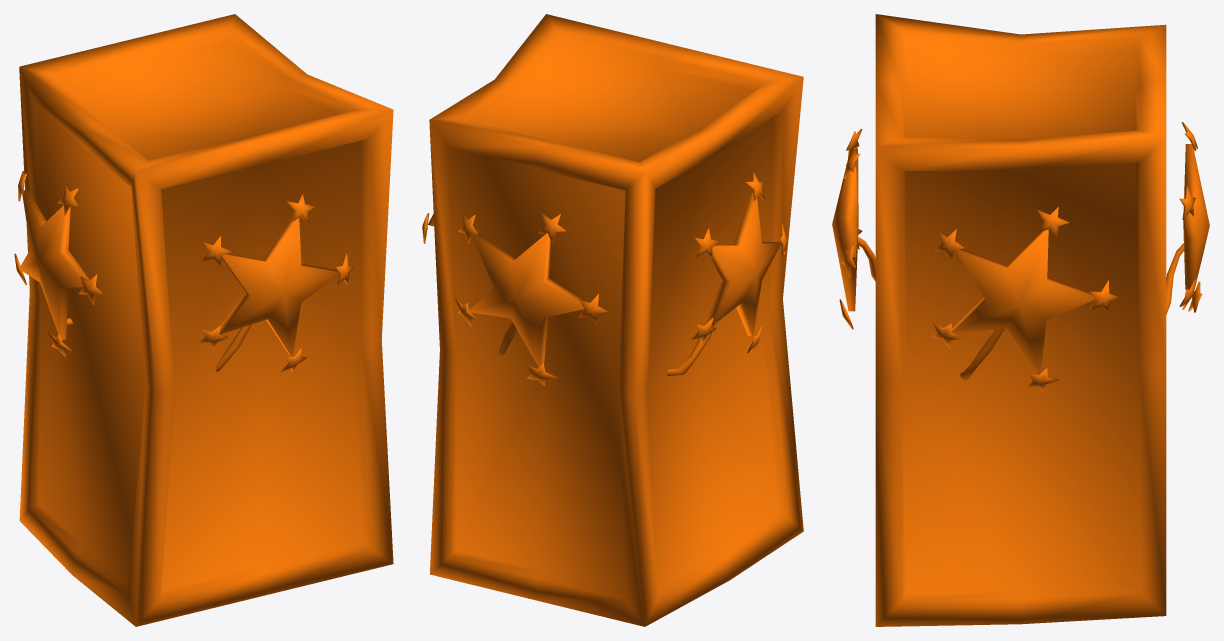
Rendered from Mod_RezBox.FBX.
3 views of the same model, side by side, from view 1: azimuth 30°, elevation 25°; view 2: azimuth 150°, elevation 25°; view 3: azimuth 270°, elevation 25° (orthographic). The views are drawn at different scales.
Parts seen in each view (by area): view 1: MOD_Rezbox_L; view 2: MOD_Rezbox_L; view 3: MOD_Rezbox_L.
Part boxes in pixels (box(x1,y1,x2,y2)): MOD_Rezbox_L: box(14, 14, 393, 626); MOD_Rezbox_L: box(422, 14, 803, 626); MOD_Rezbox_L: box(832, 14, 1209, 626).
Size of the model in its own units: 170 by 238 by 170.
